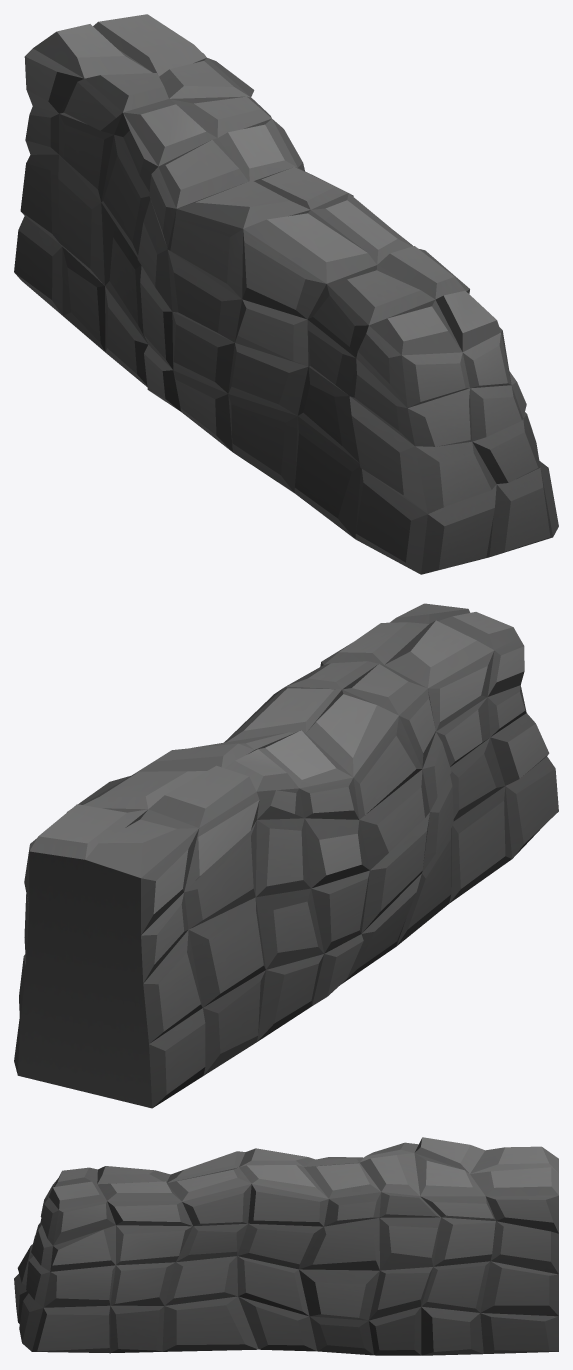
Rendered from StoneWall_01.fbx.
The picture shows the model from 3 angles, top to bottom: view 1: azimuth 30°, elevation 25°; view 2: azimuth 150°, elevation 25°; view 3: azimuth 270°, elevation 25°; orthographic projection. The views are drawn at different scales.
Parts seen in each view (by area): view 1: Cube.011; view 2: Cube.011; view 3: Cube.011.
Boxes of the visible parts, x1,y1,x2,y2 form: Cube.011: [14, 14, 558, 574]; Cube.011: [14, 603, 558, 1108]; Cube.011: [14, 1137, 558, 1355].
Bounding box in the file's own units: 5.59 × 1.96 × 1.63.
